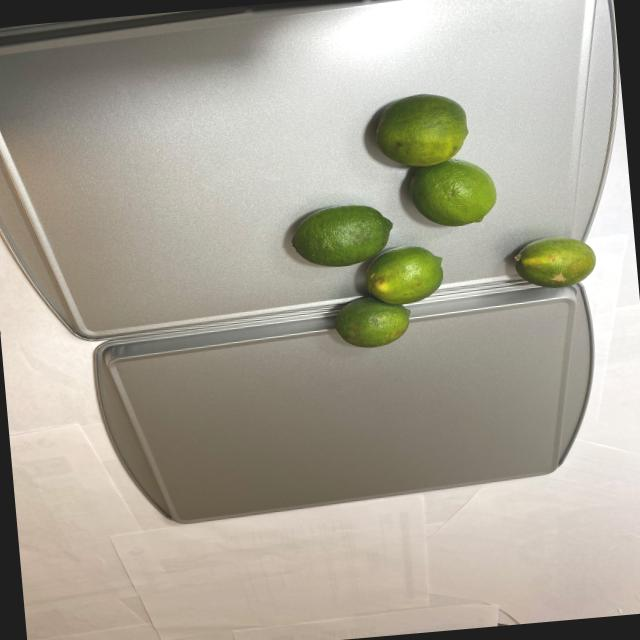lemon: (267, 94, 505, 358), (512, 232, 599, 289)
